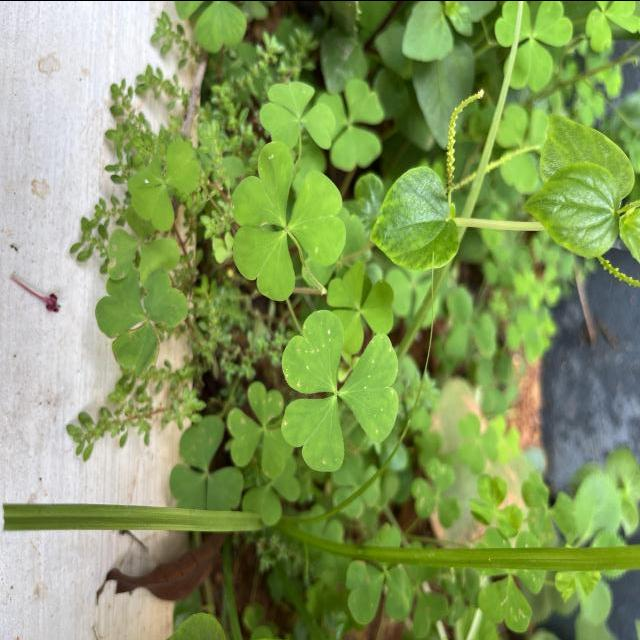Oxalis corniculata: (278, 307, 401, 474), (230, 140, 349, 302), (96, 268, 190, 380), (259, 78, 337, 151)
